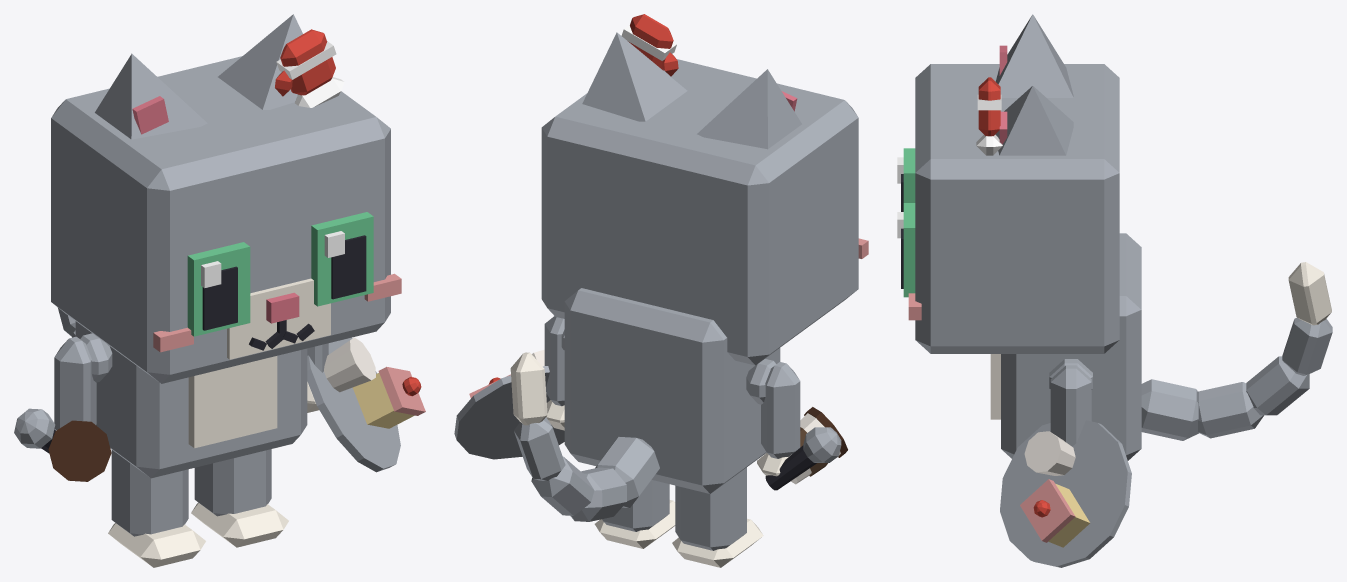
The model's file is CatCafe_Cat_Mitten_Work.glb.
The picture shows the model from 3 angles, left to right: view 1: azimuth 30°, elevation 25°; view 2: azimuth 150°, elevation 25°; view 3: azimuth 270°, elevation 25°; orthographic projection. The views are drawn at different scales.
Visible parts, largest first — view 1: CatCafe_Cat_Mitten_Work_Head, CatCafe_Cat_Mitten_Work_Body, CatCafe_Cat_Mitten_Work_Held_Waiter, CatCafe_Cat_Mitten_Work_LegB2, CatCafe_Cat_Mitten_Work_LegB1, CatCafe_Cat_Mitten_Work_Eye2, CatCafe_Cat_Mitten_Work_Eye1, CatCafe_Cat_Mitten_Work_EarR, CatCafe_Cat_Mitten_Work_Prop, CatCafe_Cat_Mitten_Work_EarL, CatCafe_Cat_Mitten_Work_LegF2, CatCafe_Cat_Mitten_Work_Held_Barista (+2 smaller); view 2: CatCafe_Cat_Mitten_Work_Head, CatCafe_Cat_Mitten_Work_Body, CatCafe_Cat_Mitten_Work_Tail, CatCafe_Cat_Mitten_Work_LegB2, CatCafe_Cat_Mitten_Work_EarL, CatCafe_Cat_Mitten_Work_EarR, CatCafe_Cat_Mitten_Work_Held_Waiter, CatCafe_Cat_Mitten_Work_LegF2, CatCafe_Cat_Mitten_Work_LegB1, CatCafe_Cat_Mitten_Work_Held_Entertainer, CatCafe_Cat_Mitten_Work_LegF1, CatCafe_Cat_Mitten_Work_Prop (+1 smaller); view 3: CatCafe_Cat_Mitten_Work_Head, CatCafe_Cat_Mitten_Work_Held_Waiter, CatCafe_Cat_Mitten_Work_Body, CatCafe_Cat_Mitten_Work_Tail, CatCafe_Cat_Mitten_Work_EarR, CatCafe_Cat_Mitten_Work_EarL, CatCafe_Cat_Mitten_Work_LegF1, CatCafe_Cat_Mitten_Work_Prop, CatCafe_Cat_Mitten_Work_Eye1, CatCafe_Cat_Mitten_Work_Eye2.
Boxes of the visible parts, left/top/right/bottom form: CatCafe_Cat_Mitten_Work_Head: left=51, top=56, right=401, bottom=383; CatCafe_Cat_Mitten_Work_Body: left=75, top=321, right=307, bottom=478; CatCafe_Cat_Mitten_Work_Held_Waiter: left=307, top=337, right=425, bottom=472; CatCafe_Cat_Mitten_Work_LegB2: left=108, top=450, right=205, bottom=567; CatCafe_Cat_Mitten_Work_LegB1: left=191, top=449, right=288, bottom=547; CatCafe_Cat_Mitten_Work_Eye2: left=187, top=242, right=250, bottom=336; CatCafe_Cat_Mitten_Work_Eye1: left=311, top=212, right=373, bottom=306; CatCafe_Cat_Mitten_Work_EarR: left=95, top=53, right=207, bottom=139; CatCafe_Cat_Mitten_Work_Prop: left=275, top=29, right=344, bottom=107; CatCafe_Cat_Mitten_Work_EarL: left=218, top=14, right=302, bottom=109; CatCafe_Cat_Mitten_Work_LegF2: left=54, top=336, right=96, bottom=430; CatCafe_Cat_Mitten_Work_Held_Barista: left=48, top=420, right=111, bottom=481; CatCafe_Cat_Mitten_Work_Head: left=541, top=59, right=868, bottom=365; CatCafe_Cat_Mitten_Work_Body: left=561, top=288, right=780, bottom=493; CatCafe_Cat_Mitten_Work_Tail: left=510, top=352, right=659, bottom=521; CatCafe_Cat_Mitten_Work_LegB2: left=672, top=467, right=763, bottom=567; CatCafe_Cat_Mitten_Work_EarL: left=582, top=32, right=687, bottom=121; CatCafe_Cat_Mitten_Work_EarR: left=697, top=69, right=801, bottom=149; CatCafe_Cat_Mitten_Work_Held_Waiter: left=454, top=349, right=564, bottom=459; CatCafe_Cat_Mitten_Work_LegF2: left=757, top=362, right=800, bottom=476; CatCafe_Cat_Mitten_Work_LegB1: left=594, top=480, right=675, bottom=548; CatCafe_Cat_Mitten_Work_Held_Entertainer: left=765, top=427, right=841, bottom=490; CatCafe_Cat_Mitten_Work_LegF1: left=544, top=316, right=564, bottom=430; CatCafe_Cat_Mitten_Work_Prop: left=621, top=14, right=678, bottom=76; CatCafe_Cat_Mitten_Work_Head: left=908, top=64, right=1119, bottom=353; CatCafe_Cat_Mitten_Work_Held_Waiter: left=1000, top=420, right=1131, bottom=567; CatCafe_Cat_Mitten_Work_Body: left=990, top=233, right=1141, bottom=460; CatCafe_Cat_Mitten_Work_Tail: left=1141, top=262, right=1332, bottom=440; CatCafe_Cat_Mitten_Work_EarR: left=995, top=14, right=1073, bottom=97; CatCafe_Cat_Mitten_Work_EarL: left=995, top=86, right=1073, bottom=155; CatCafe_Cat_Mitten_Work_LegF1: left=1050, top=365, right=1091, bottom=446; CatCafe_Cat_Mitten_Work_Prop: left=976, top=77, right=1002, bottom=155; CatCafe_Cat_Mitten_Work_Eye1: left=897, top=203, right=915, bottom=297; CatCafe_Cat_Mitten_Work_Eye2: left=897, top=148, right=915, bottom=211.
Size of the model in its own units: 1.53 by 1.94 by 1.62.
Materials: 1 (1 with a texture image).
